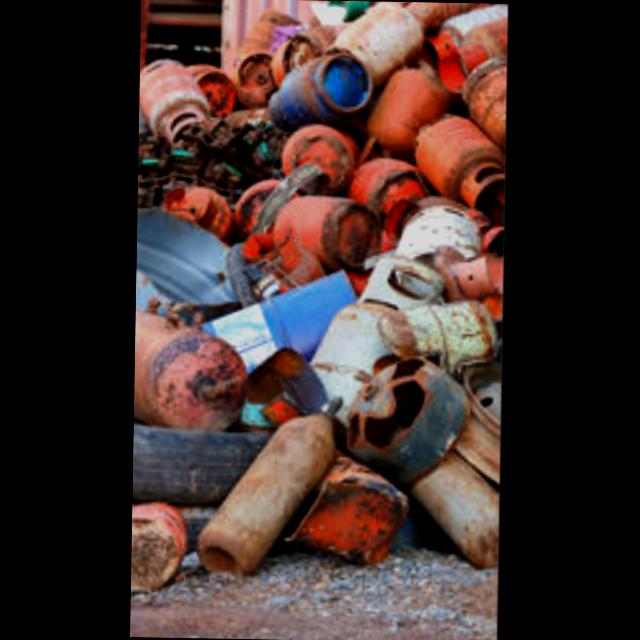Cylinders: (298, 249, 441, 426), (266, 49, 369, 125)
